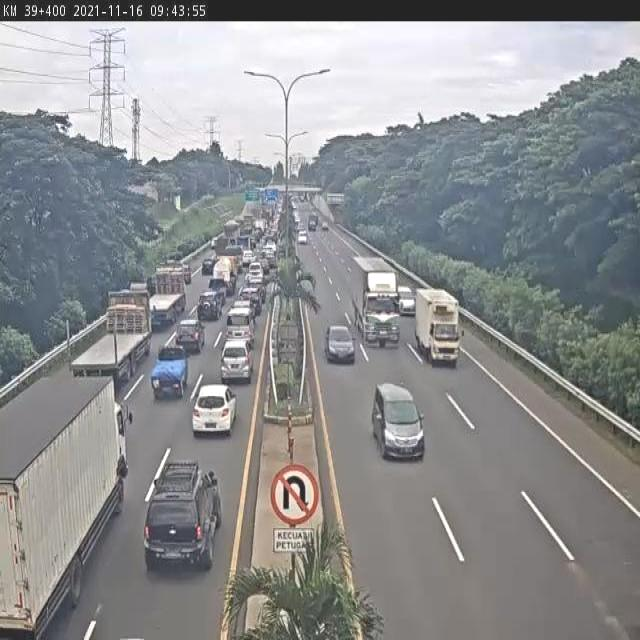Car: (143, 467, 217, 570), (192, 386, 237, 436), (150, 349, 188, 398), (324, 324, 357, 363), (174, 319, 205, 354), (227, 307, 254, 341), (224, 337, 254, 366), (398, 286, 416, 315), (200, 253, 218, 274), (298, 230, 307, 243)
Truck: (0, 373, 131, 640), (72, 291, 151, 378), (350, 255, 400, 348), (416, 289, 464, 363), (145, 267, 186, 326), (211, 255, 237, 292)
